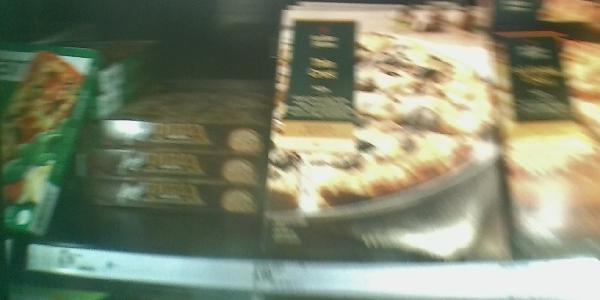pizza1: (264, 6, 513, 260)
pizza2: (81, 179, 260, 216), (93, 119, 262, 154), (85, 151, 260, 183)
